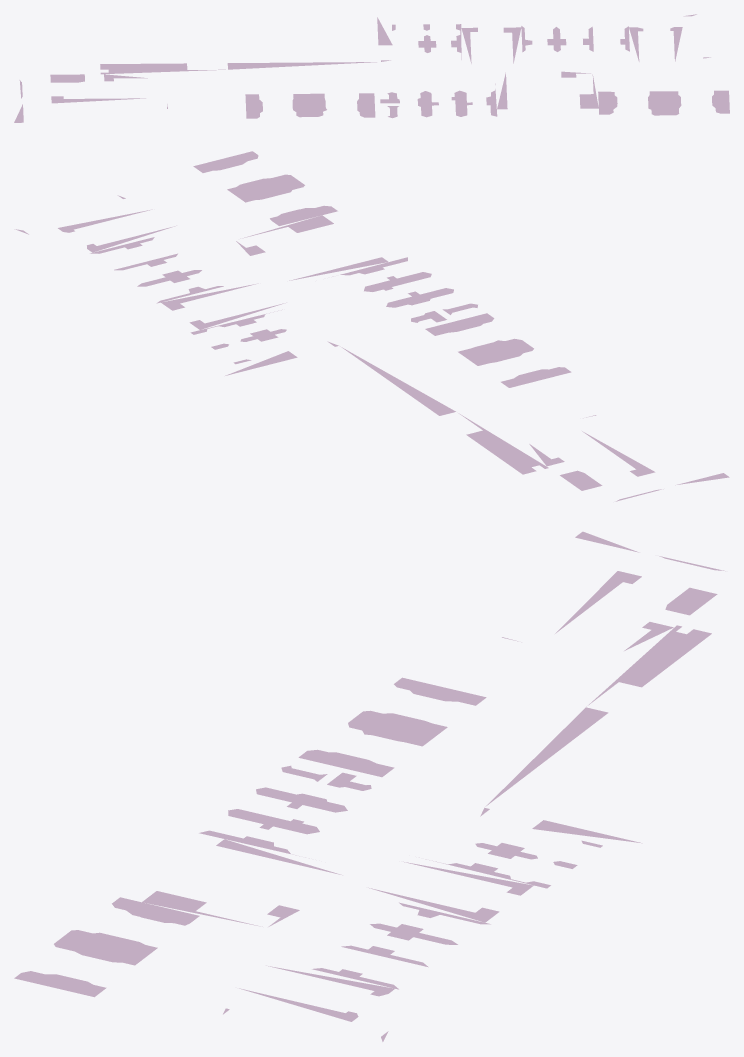
File: well_areas.gltf
3 views of the same model, one above another, from view 1: azimuth 30°, elevation 25°; view 2: azimuth 150°, elevation 25°; view 3: azimuth 270°, elevation 25° (orthographic). The views are drawn at different scales.
Bounding box in the file's own units: 170 × 1.08e-15 × 101.
